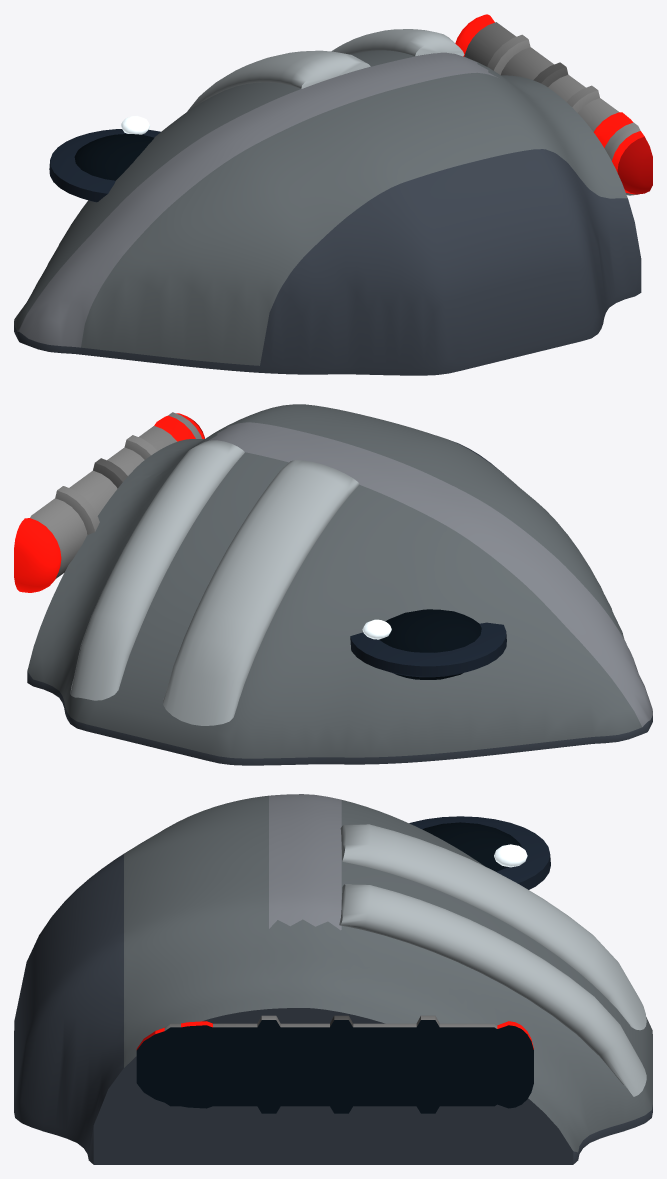
The model's file is hinge_pod_l.glb.
The picture shows the model from 3 angles, top to bottom: view 1: azimuth 30°, elevation 25°; view 2: azimuth 150°, elevation 25°; view 3: azimuth 270°, elevation 25°; orthographic projection. The views are drawn at different scales.
Parts seen in each view (by area): view 1: shell.001, hinge.001, rib0.001, cap_bottom.001, eye_rim.001, eye.001, rib1.001, hinge_ring0.001, cap_top.001; view 2: shell.001, rib0.001, rib1.001, hinge.001, eye_rim.001, eye.001, cap_top.001, hinge_ring0.001, cap_bottom.001, hinge_ring1.001; view 3: shell.001, hinge.001, rib1.001, rib0.001, cap_bottom.001, cap_top.001, eye_rim.001, eye.001, hinge_ring1.001, hinge_ring0.001, hinge_ring2.001, glint.001.
Part boxes in pixels (box(x1,y1,x2,y2)): shell.001: box(14, 50, 641, 375); hinge.001: box(464, 22, 640, 195); rib0.001: box(187, 50, 370, 111); cap_bottom.001: box(593, 112, 652, 194); eye_rim.001: box(49, 129, 160, 202); eye.001: box(74, 134, 154, 180); rib1.001: box(331, 29, 464, 56); hinge_ring0.001: box(487, 34, 530, 74); cap_top.001: box(455, 14, 494, 56); shell.001: box(27, 404, 652, 765); rib0.001: box(163, 460, 359, 725); rib1.001: box(70, 440, 244, 700); hinge.001: box(30, 412, 201, 578); eye_rim.001: box(350, 622, 506, 677); eye.001: box(379, 609, 481, 679); cap_top.001: box(14, 518, 61, 592); hinge_ring0.001: box(55, 486, 99, 534); cap_bottom.001: box(154, 413, 204, 441); hinge_ring1.001: box(93, 458, 127, 488); shell.001: box(14, 794, 652, 1164); hinge.001: box(164, 1023, 500, 1106); rib1.001: box(339, 884, 646, 1096); rib0.001: box(340, 824, 646, 1030); cap_bottom.001: box(136, 1021, 218, 1108); cap_top.001: box(496, 1021, 533, 1108); eye_rim.001: box(409, 816, 550, 889); eye.001: box(422, 822, 521, 871); hinge_ring1.001: box(329, 1015, 353, 1113); hinge_ring0.001: box(416, 1015, 440, 1113); hinge_ring2.001: box(257, 1015, 280, 1113); glint.001: box(494, 844, 527, 867).
Size of the model in its own units: 17.95 by 6.12 by 15.86.
